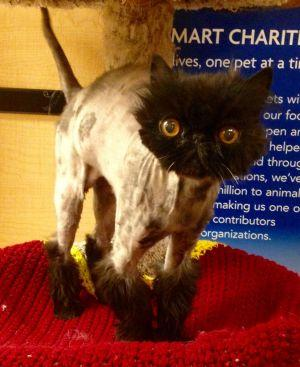persian: (134, 52, 271, 194)
